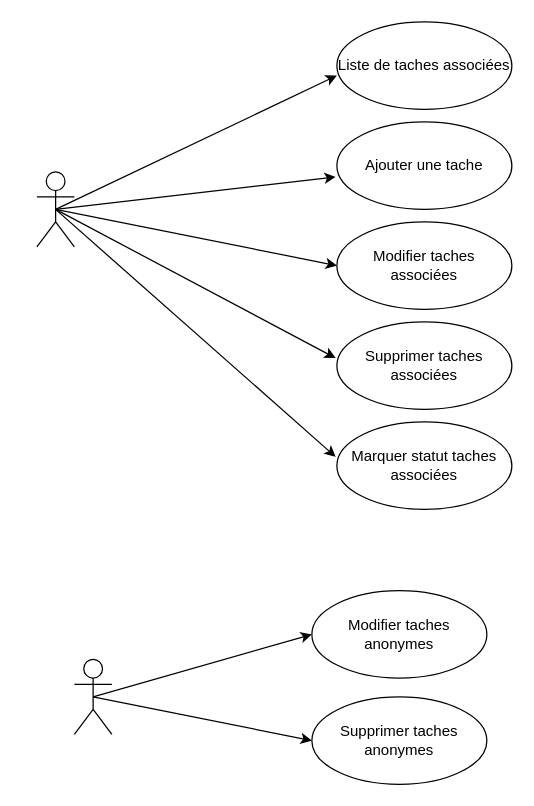
The diagram is 534 pixels wide and 806 high, and some of its shapes have lost their labels. Here are the shapes that lost their labels. From the top down, the centre of each, then its label:
At point 55,209: "Role_user".
At point 92,696: "Role_admin".
